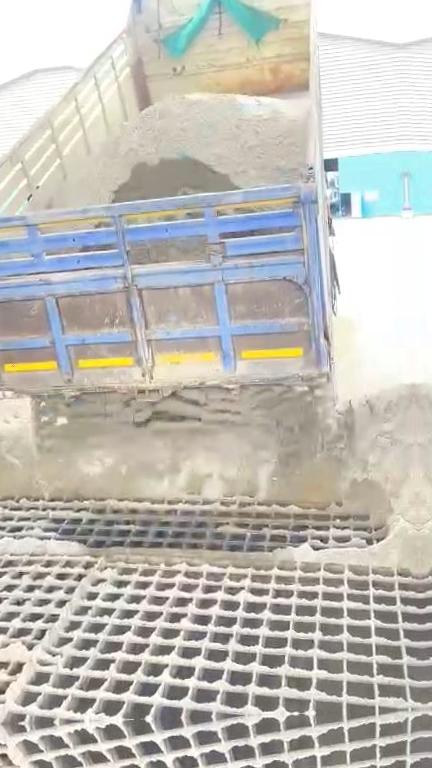sand: (0, 376, 421, 572), (39, 95, 308, 208), (0, 525, 89, 554), (0, 641, 30, 662)
